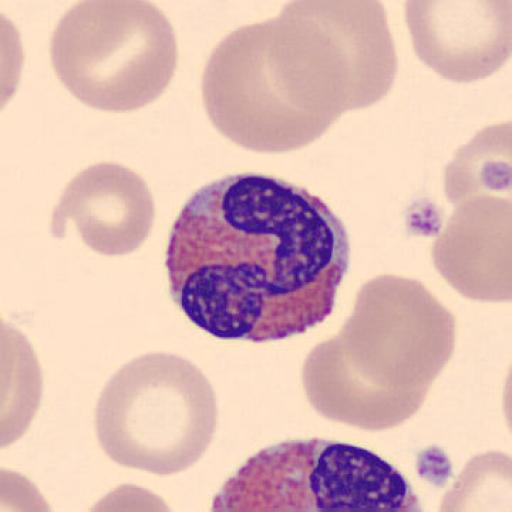RBC: (199, 16, 346, 156), (93, 348, 221, 480), (50, 0, 180, 114), (277, 0, 399, 113), (344, 272, 458, 390), (299, 331, 429, 433), (48, 158, 156, 258), (263, 13, 353, 117), (403, 0, 511, 85), (431, 193, 512, 305), (442, 120, 512, 219), (0, 318, 44, 452), (436, 448, 512, 512), (79, 481, 180, 512), (0, 10, 26, 116), (2, 465, 56, 512), (500, 357, 512, 440)
WBC: (164, 172, 352, 341), (198, 435, 432, 511)
